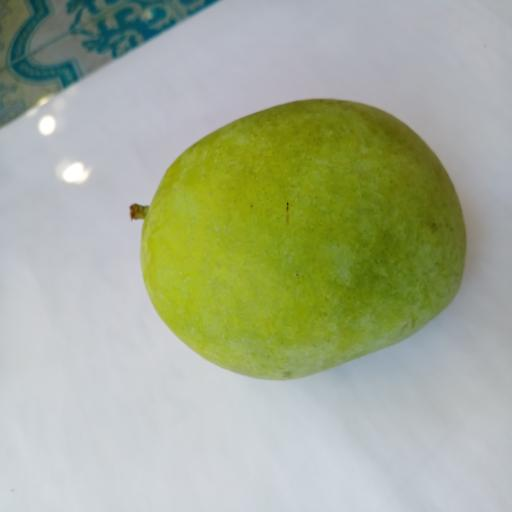mango-unripe: (112, 86, 478, 391)
